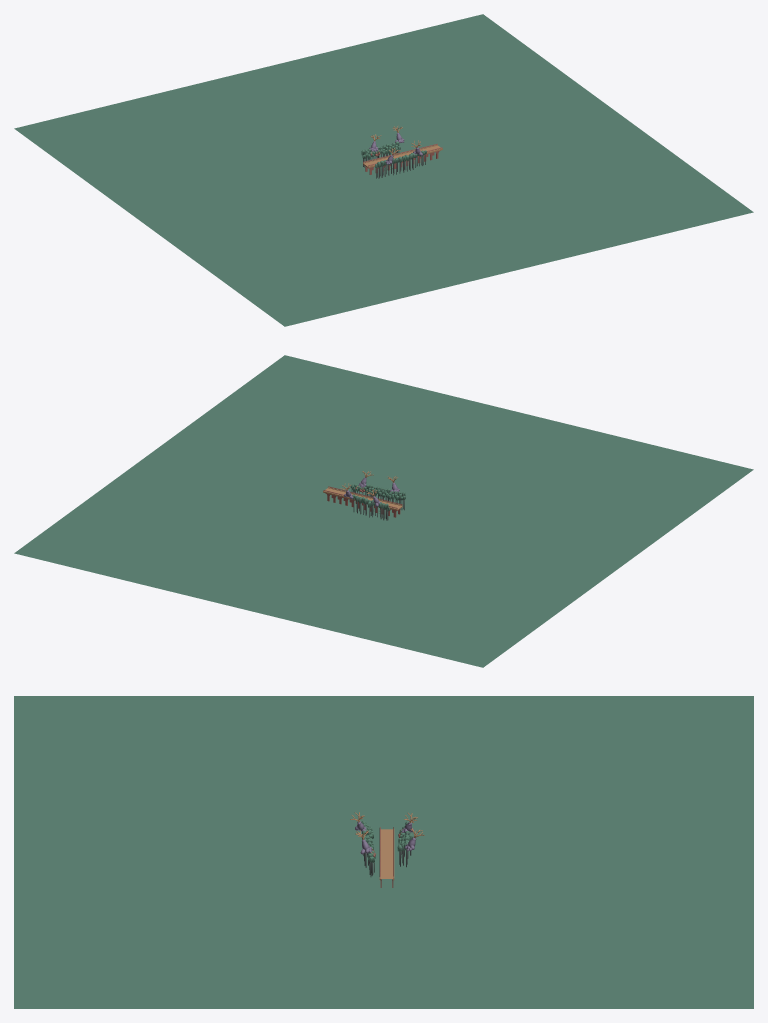
File: New Environment Bungie.fbx
3 renders of one model, top to bottom at view 1: azimuth 30°, elevation 25°; view 2: azimuth 150°, elevation 25°; view 3: azimuth 270°, elevation 25°, orthographic. The views are drawn at different scales.
Parts seen in each view (by area): view 1: bridge path; view 2: bridge path; view 3: bridge path.
Boxes of the visible parts, box(x1,y1,x2,y2) form: bridge path: box(14, 14, 753, 326); bridge path: box(14, 355, 753, 667); bridge path: box(14, 696, 753, 1008).
Size of what is drawn, in the model's own units: 235992 by 20330 by 235992.
